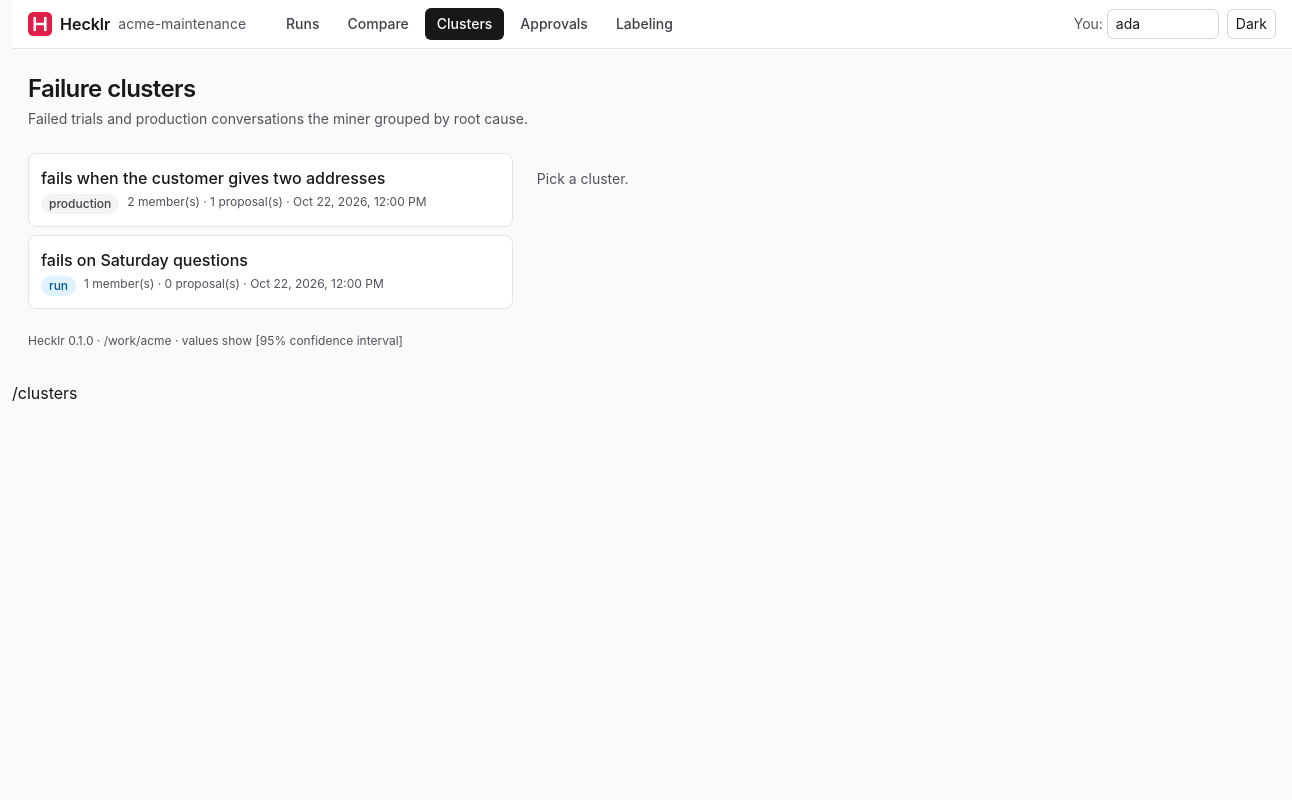
it: ClustersPage › us08: lists clusters and shows a production cluster's exemplar conversation
This screenshot has width=1292, height=800.
Click the link "fails when the customer gives two addresses" at (270, 190), box [28, 153, 513, 227]
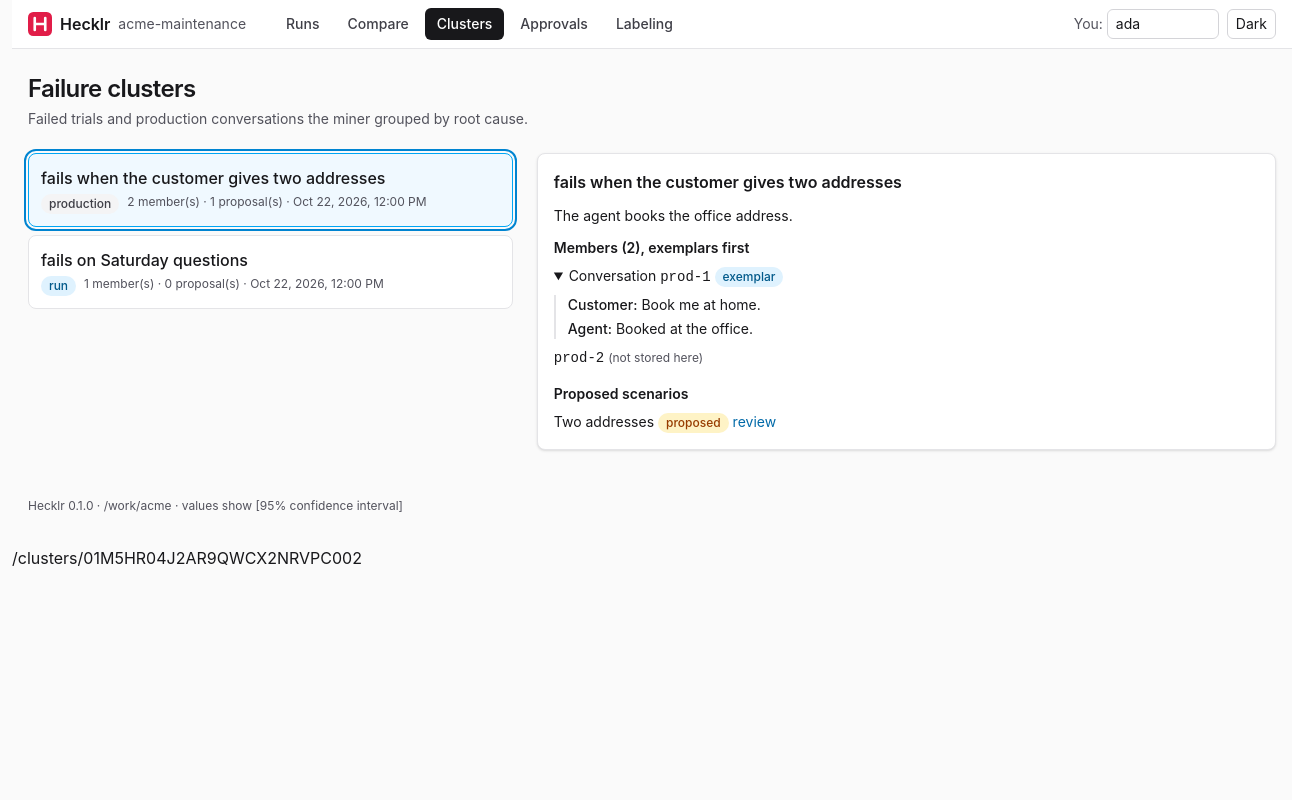
expect the list item "Booked at the office." is shown: met, box [616, 320, 753, 337]
expect the text "The agent books the office address." is shown: met, box [554, 207, 793, 224]
expect the text "(not stored here)" is shown: met, box [608, 350, 703, 365]
